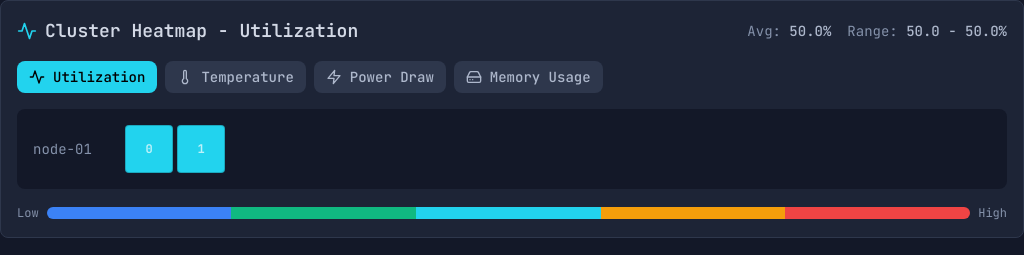
ClusterHeatmap › shows metric selector buttons and switches to temperature metric
Expected: the button "Utilization" is shown, [17,61,157,93]
Expected: the button "Power Draw" is shown, [314,61,446,93]
Click temperature button
Click the button "Temperature" at {"x": 236, "y": 77}, box [165,61,306,93]
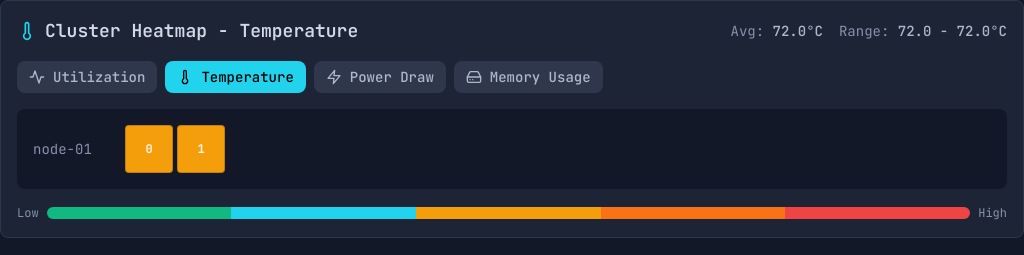
Expected: the heading "Cluster Heatmap - Temperature" is shown, [45,17,358,45]
Expected: the element titled "GPU 0: 72.0°C" is shown, [125,125,173,173]
